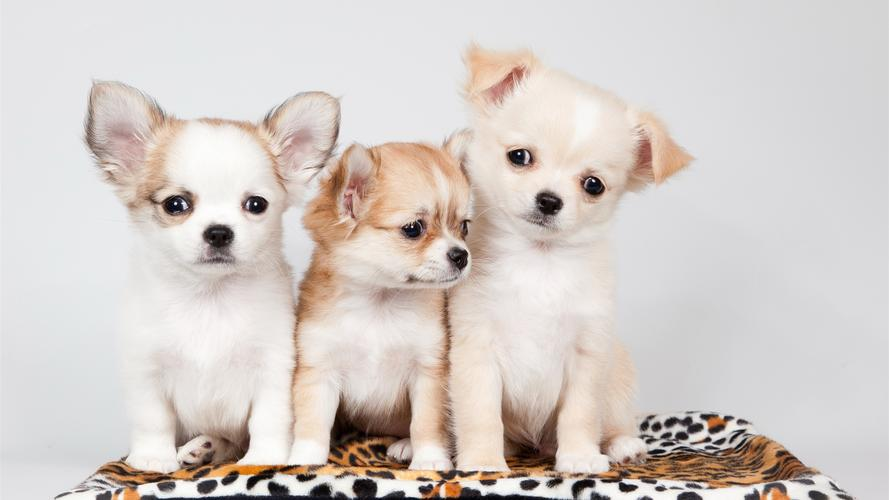dog: (454, 33, 693, 481), (83, 72, 329, 498), (308, 137, 468, 473)
